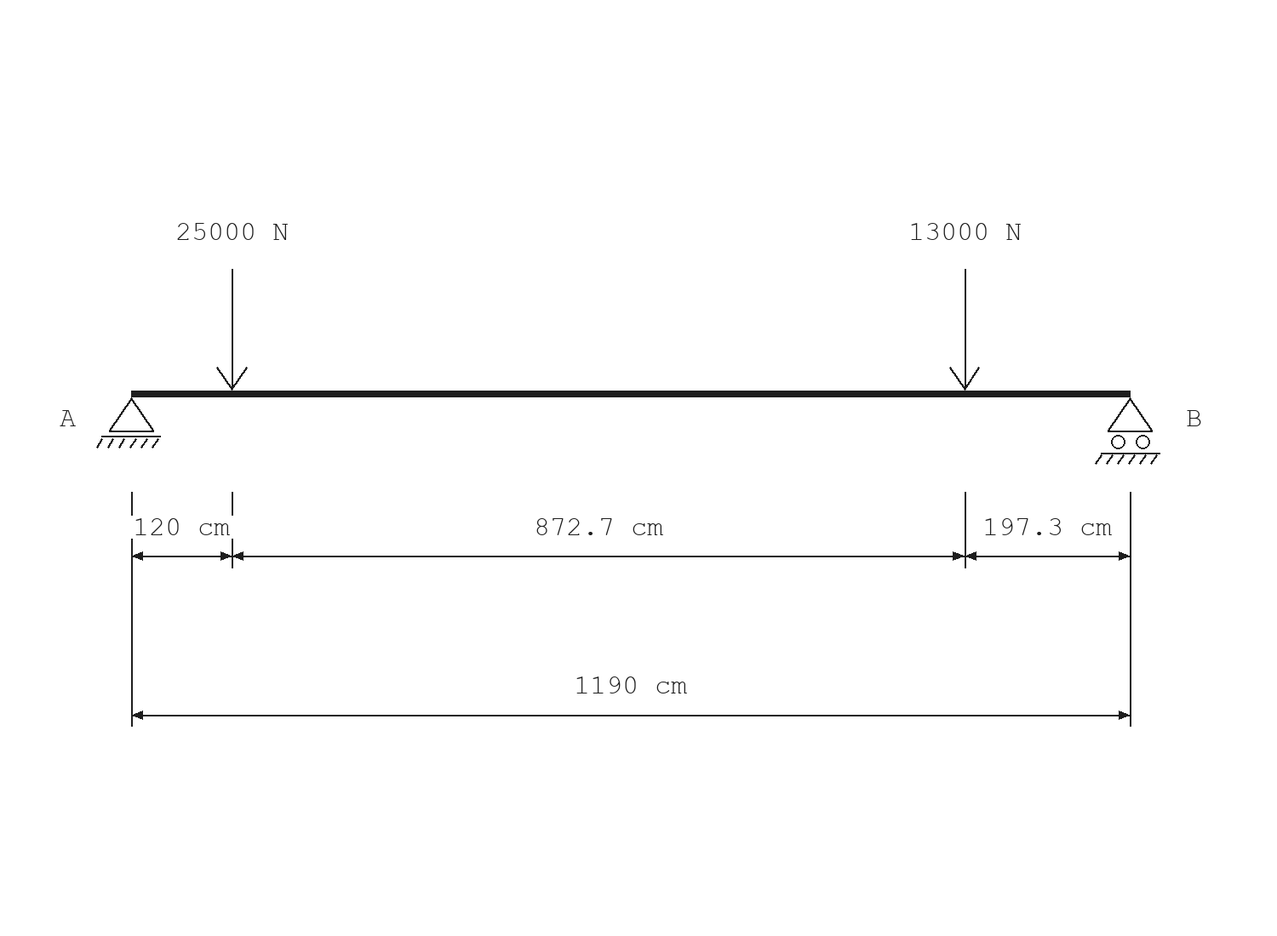pin_support: (96, 397, 161, 448)
point_load: (216, 269, 248, 391), (949, 269, 980, 391)
roller_support: (1095, 397, 1160, 465)
